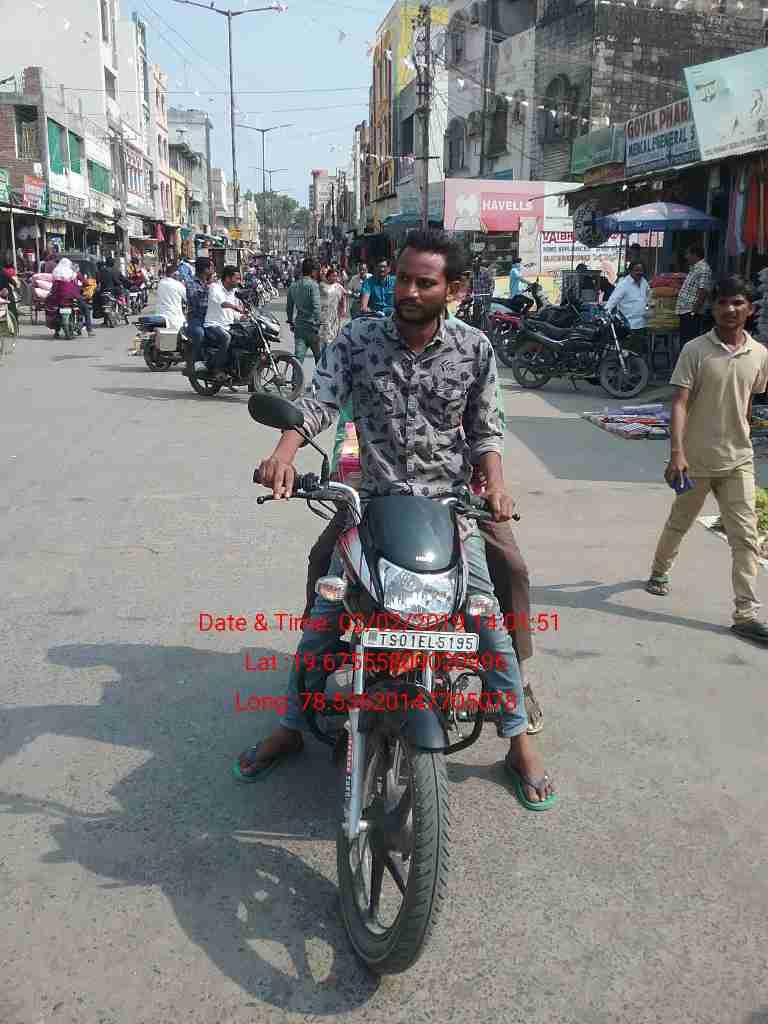plate: (363, 619, 491, 664)
